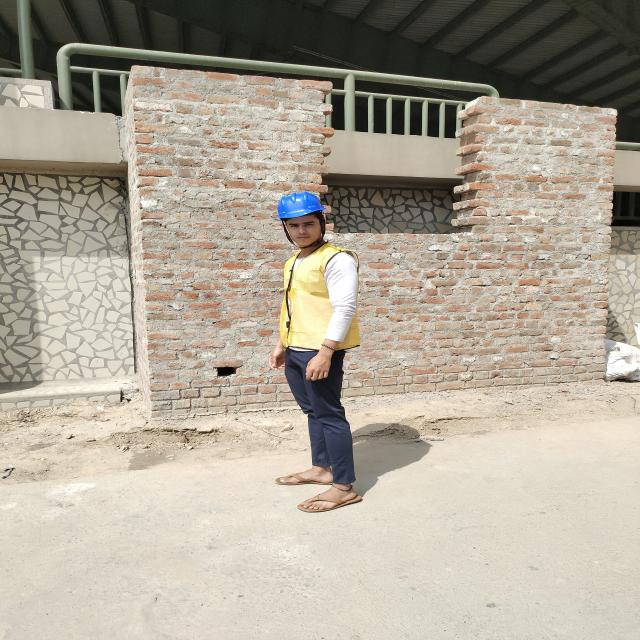safe: (272, 192, 362, 510)
